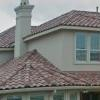Chimney: (10, 2, 36, 58)
